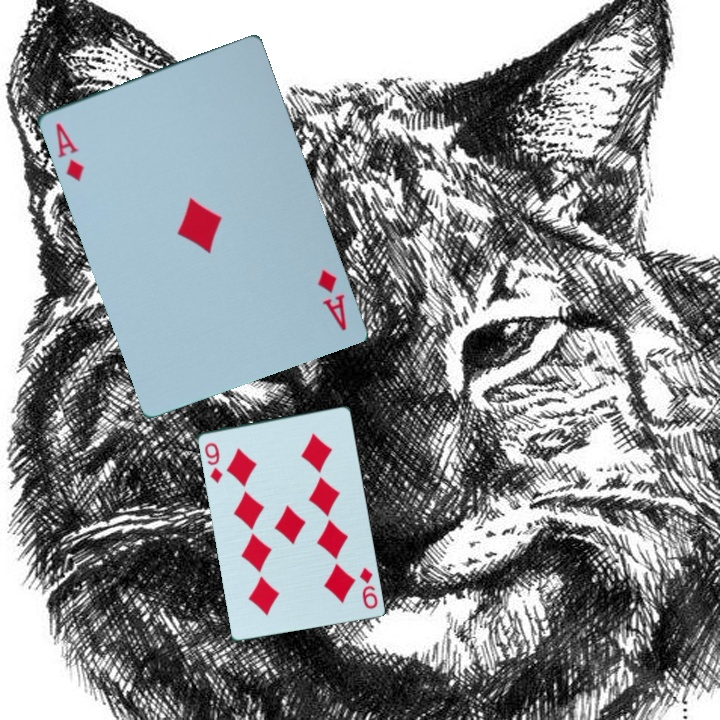9d: (355, 563, 380, 612), (201, 439, 225, 486)
Ad: (313, 265, 349, 334), (51, 118, 87, 185)
